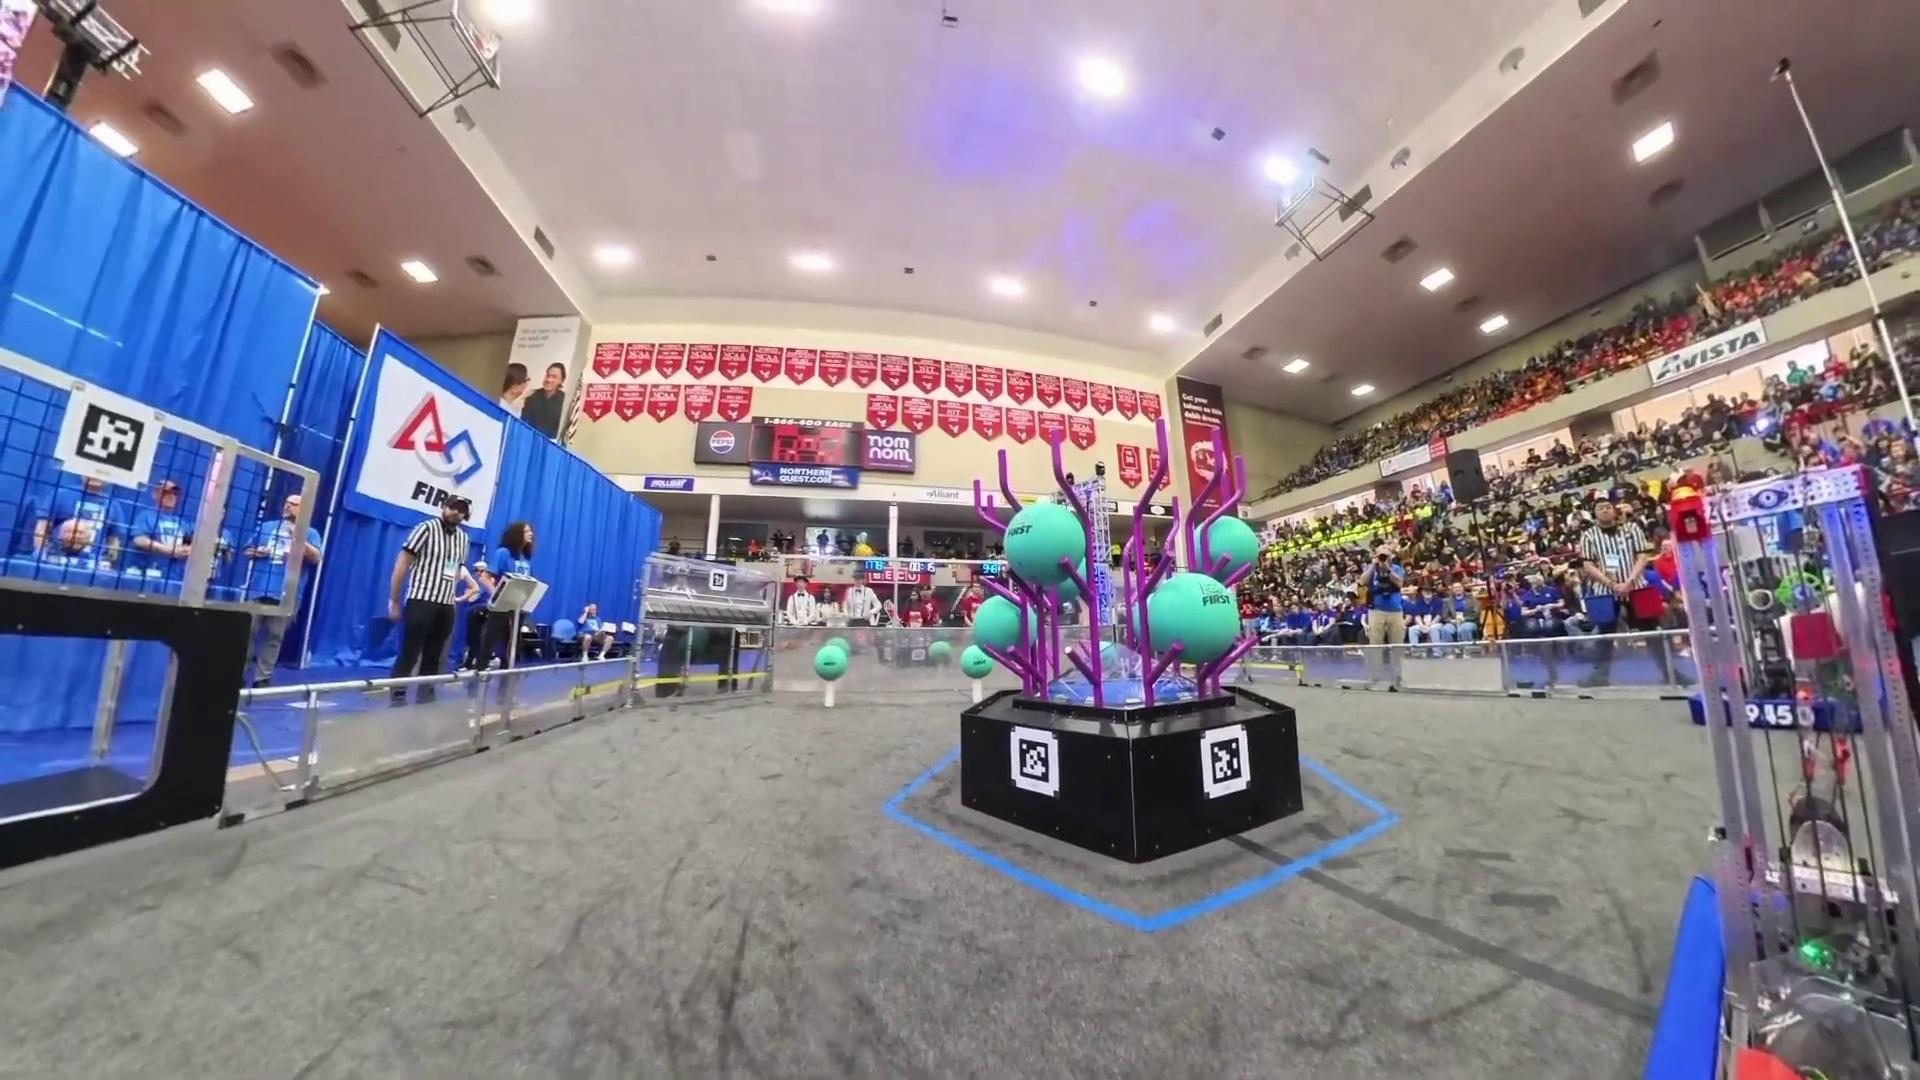robot: (1639, 463, 1920, 1080), (1691, 527, 1887, 736)
